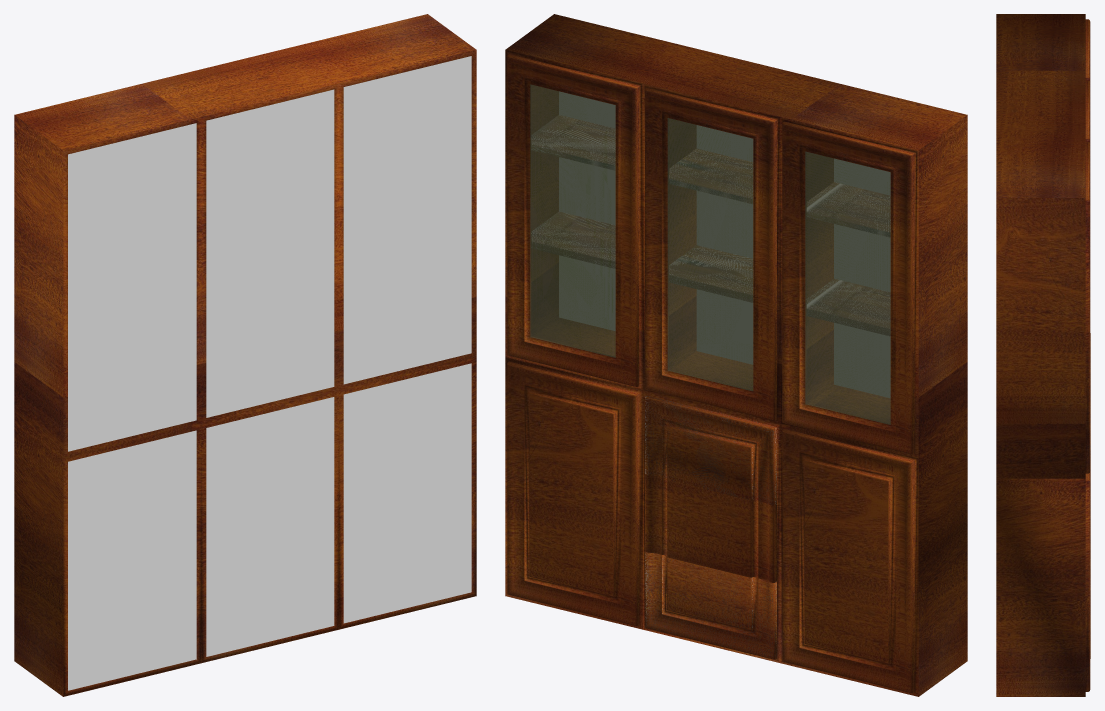
The picture shows the model from 3 angles, left to right: view 1: azimuth 30°, elevation 25°; view 2: azimuth 150°, elevation 25°; view 3: azimuth 270°, elevation 25°; orthographic projection. The views are drawn at different scales.
Visible parts, largest first — view 1: mesh1_mesh1-geometry, mesh12_mesh12-geometry; view 2: mesh2_mesh2-geometry, mesh1_mesh1-geometry, mesh3_mesh3-geometry, mesh4_mesh4-geometry, mesh6_mesh6-geometry, mesh5_mesh5-geometry, mesh10_mesh10-geometry, mesh12_mesh12-geometry, mesh14_mesh14-geometry, mesh13_mesh13-geometry, mesh11_mesh11-geometry, mesh9_mesh9-geometry; view 3: mesh1_mesh1-geometry, mesh2_mesh2-geometry, mesh3_mesh3-geometry.
Boxes of the visible parts, x1,y1,x2,y2 form: mesh1_mesh1-geometry: [14, 14, 476, 696]; mesh12_mesh12-geometry: [206, 281, 334, 318]; mesh2_mesh2-geometry: [507, 54, 914, 454]; mesh1_mesh1-geometry: [505, 14, 967, 696]; mesh3_mesh3-geometry: [507, 362, 914, 693]; mesh4_mesh4-geometry: [645, 395, 776, 505]; mesh6_mesh6-geometry: [645, 474, 776, 582]; mesh5_mesh5-geometry: [645, 552, 776, 659]; mesh10_mesh10-geometry: [807, 279, 890, 335]; mesh12_mesh12-geometry: [669, 245, 752, 302]; mesh14_mesh14-geometry: [531, 212, 615, 268]; mesh13_mesh13-geometry: [531, 115, 615, 170]; mesh11_mesh11-geometry: [669, 149, 752, 203]; mesh9_mesh9-geometry: [807, 182, 890, 236]; mesh1_mesh1-geometry: [996, 14, 1085, 696]; mesh2_mesh2-geometry: [1085, 19, 1090, 473]; mesh3_mesh3-geometry: [1085, 333, 1090, 691].
Bounding box in the file's own units: 0.6152 × 0.7771 × 0.133.
